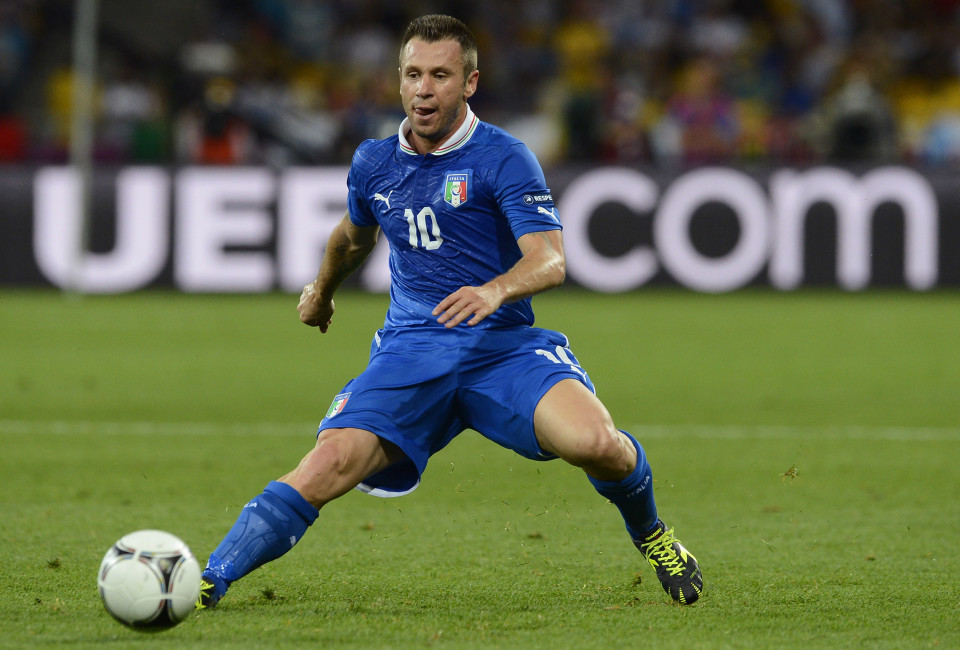soccer player: (190, 11, 711, 612)
soccerball: (94, 527, 207, 635)
